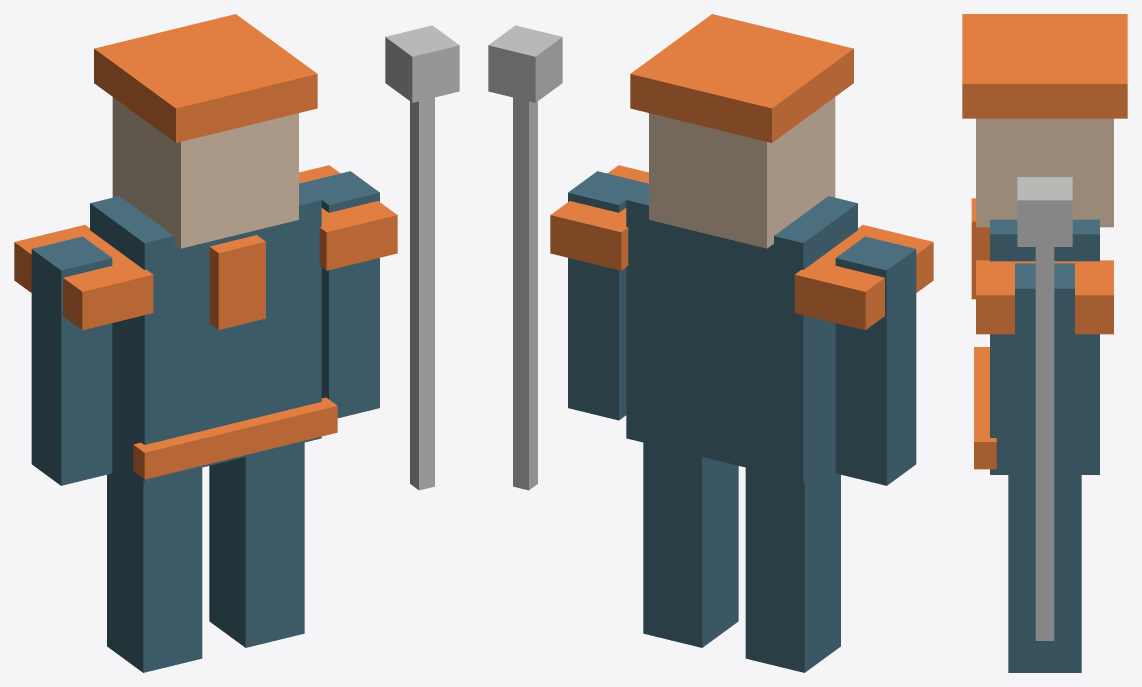
Rendered from 09_ren_latchward_keeper_at_surface.glb.
3 renders of one model, left to right at view 1: azimuth 30°, elevation 25°; view 2: azimuth 150°, elevation 25°; view 3: azimuth 270°, elevation 25°, orthographic.
Visible parts, largest first — view 1: Ren Latchward, Keeper at Surface; view 2: Ren Latchward, Keeper at Surface; view 3: Ren Latchward, Keeper at Surface.
Boxes of the visible parts, x1,y1,x2,y2 form: Ren Latchward, Keeper at Surface: [14, 14, 459, 672]; Ren Latchward, Keeper at Surface: [488, 14, 933, 672]; Ren Latchward, Keeper at Surface: [962, 14, 1127, 672].
Size of the model in its own units: 1.1 by 1.52 by 0.3905.
